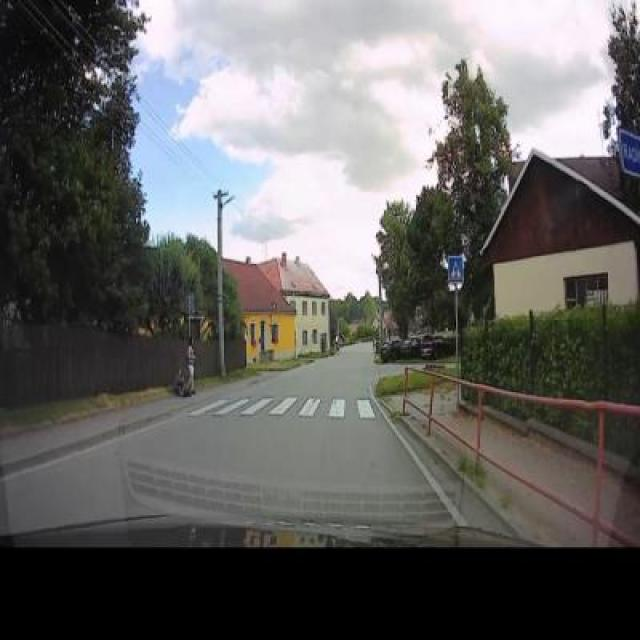clear-road: (124, 356, 420, 484)
